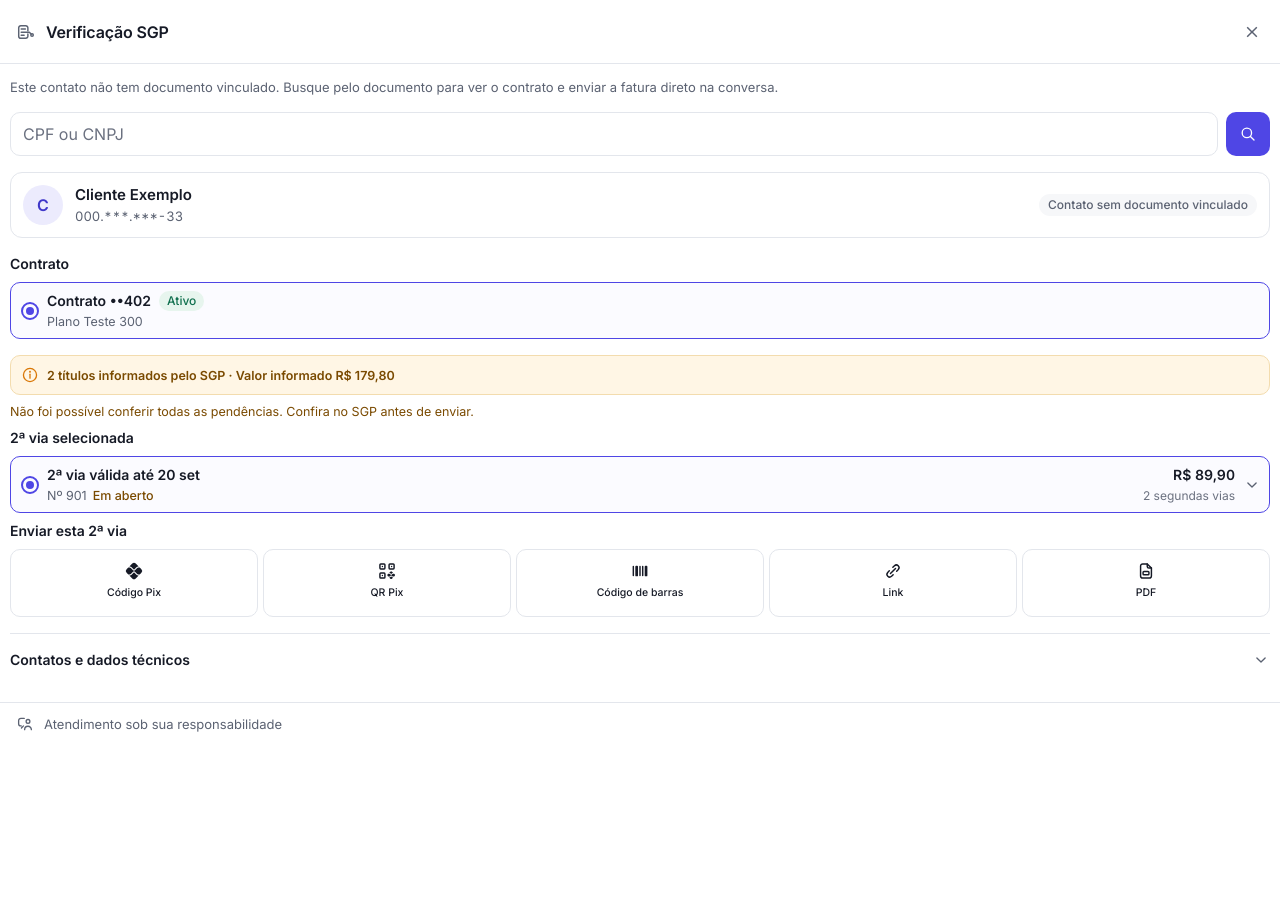
Test: faturas › abrir mostra todas as 2ª vias liberadas
Click the button "Nº 901": click(123, 474) [10,456,1270,513]
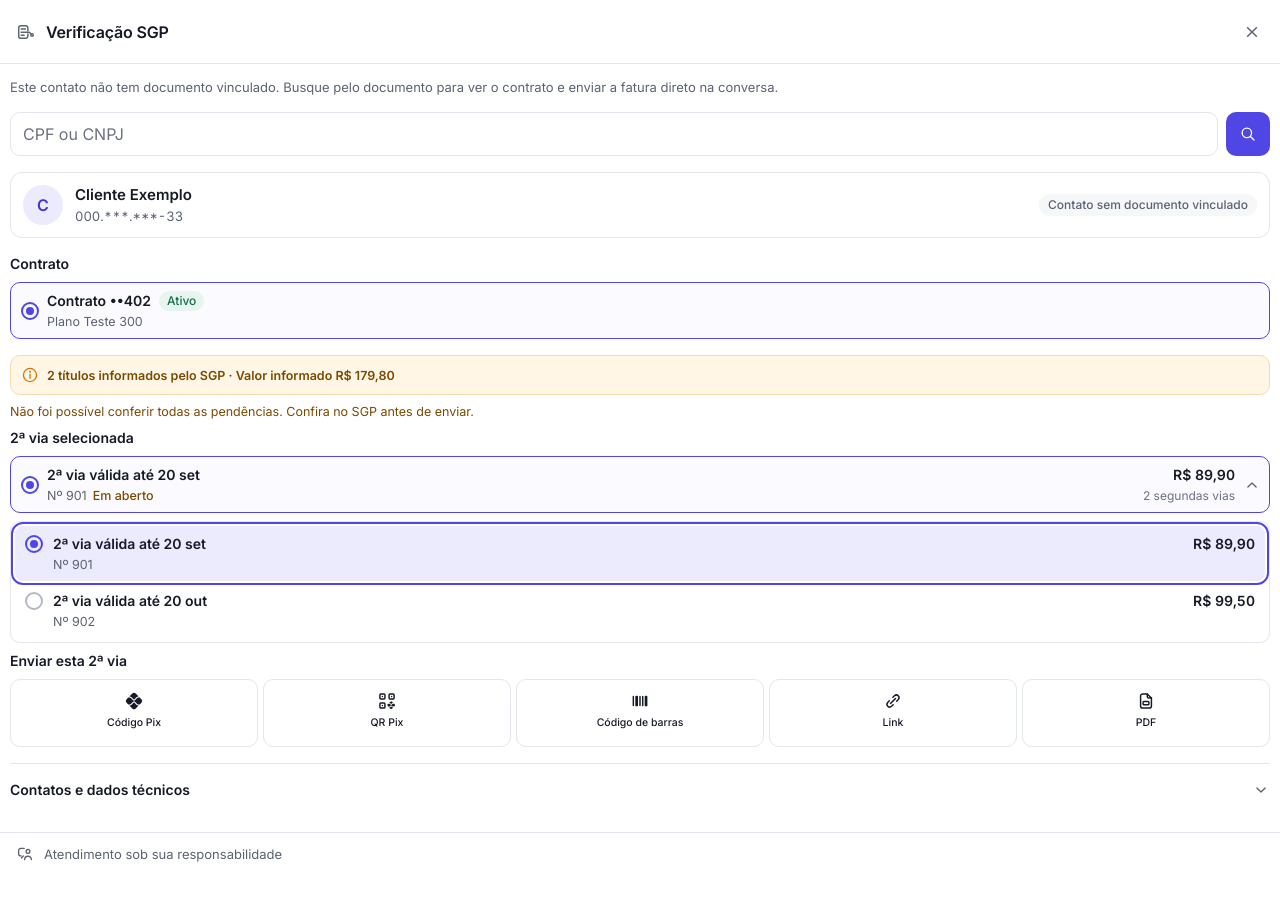
Check: the text "Nº 902" is shown, box [53,614,95,629]
